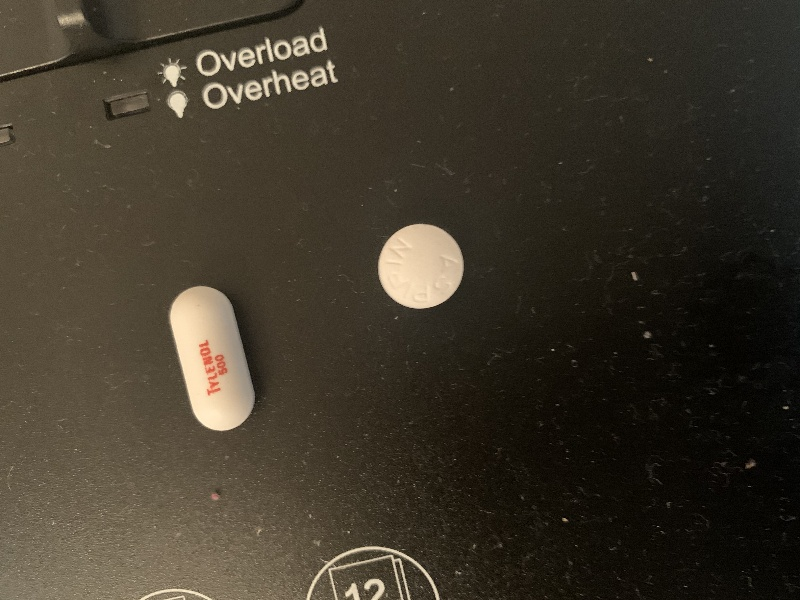Aspirin: (372, 215, 471, 314)
Tylenol: (162, 281, 268, 444)
